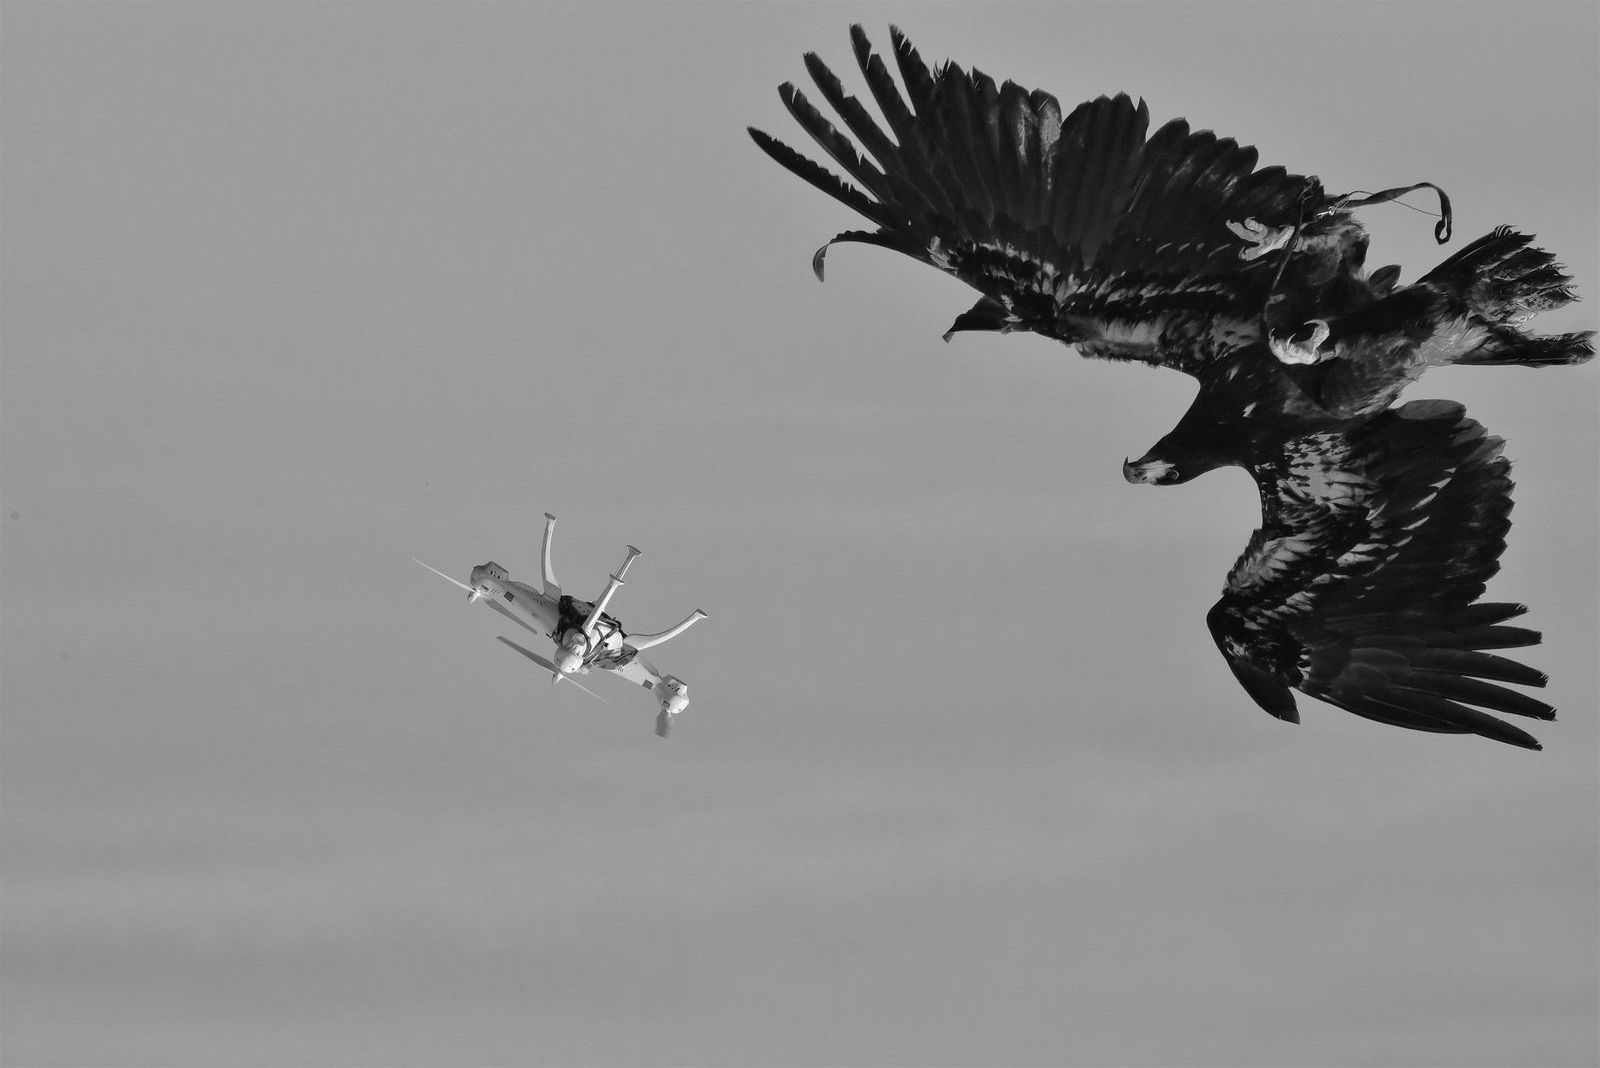Bird: (736, 5, 1596, 780)
Drone: (397, 503, 712, 752)
